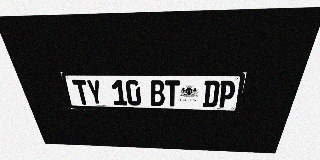0: (125, 80, 141, 106)
1: (110, 80, 127, 105)
B: (150, 80, 165, 106)
D: (202, 80, 220, 107)
P: (217, 81, 237, 108)
T: (72, 80, 91, 105), (165, 80, 180, 107)
Y: (86, 80, 104, 105)
